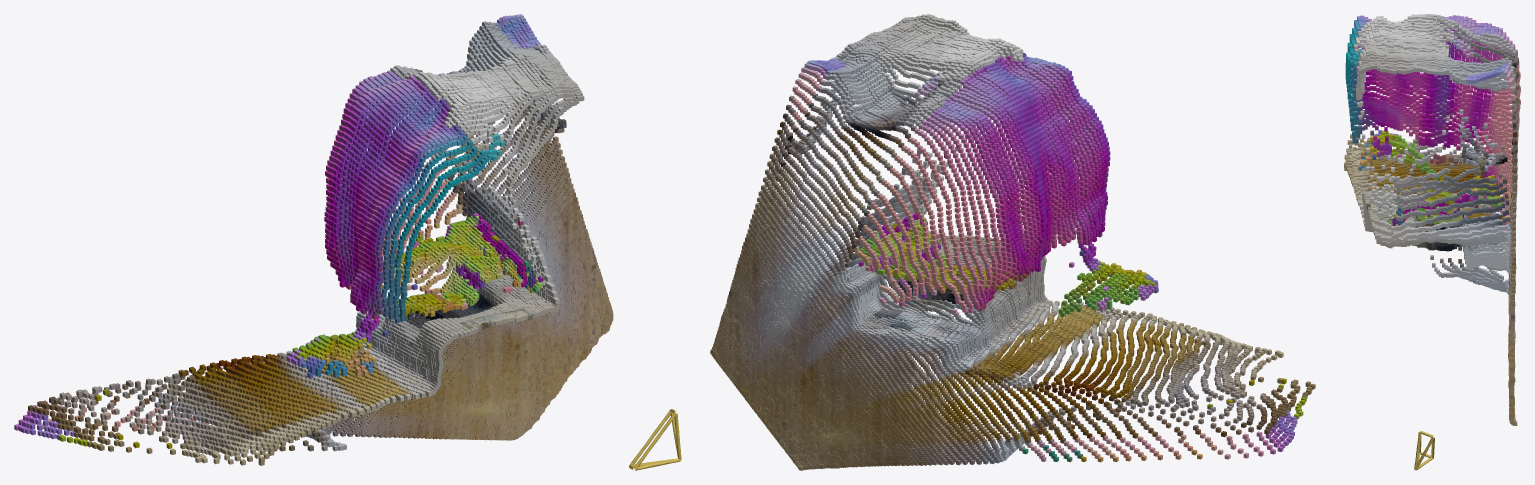
The model's file is pred_2-compressed.glb.
3 renders of one model, left to right at view 1: azimuth 30°, elevation 25°; view 2: azimuth 150°, elevation 25°; view 3: azimuth 270°, elevation 25°, orthographic. The views are drawn at different scales.
Bounding box in the file's own units: 8.18 × 5.58 × 2.47.
